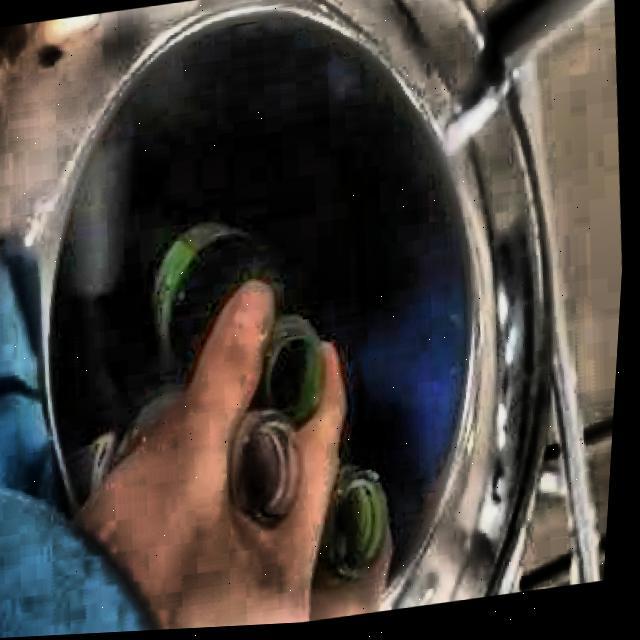glass: (234, 289, 327, 530), (155, 224, 273, 380), (71, 396, 182, 502), (325, 470, 393, 588)
